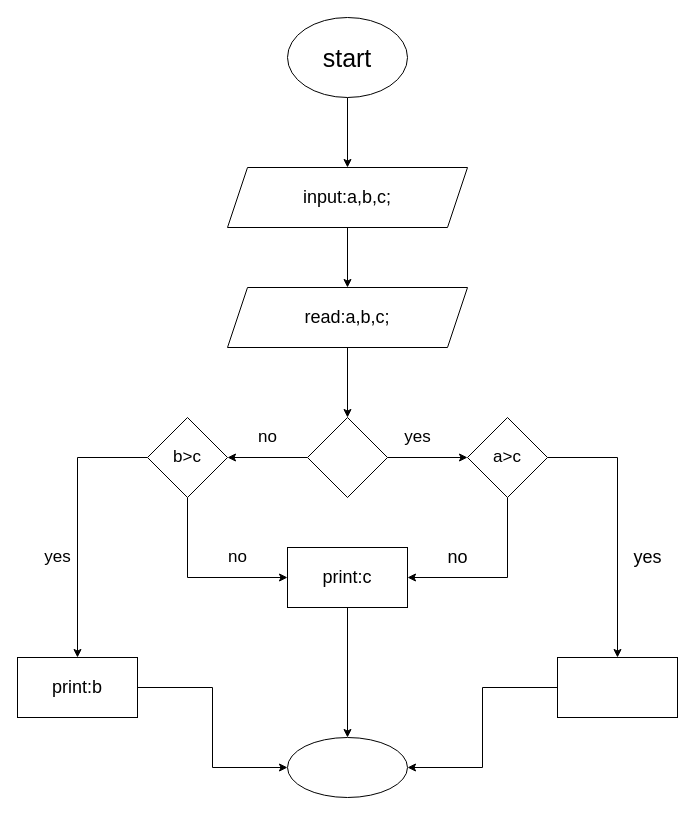
Some shapes in this 695 by 815 pixel diagram are drawn without their labels. The shapes that lost their labels are listed below. From the top down, each one's centre as x and y in pixels, then its label:
At (x=347, y=457): "a>b".
At (x=617, y=687): "print:a".
At (x=347, y=767): "end".
